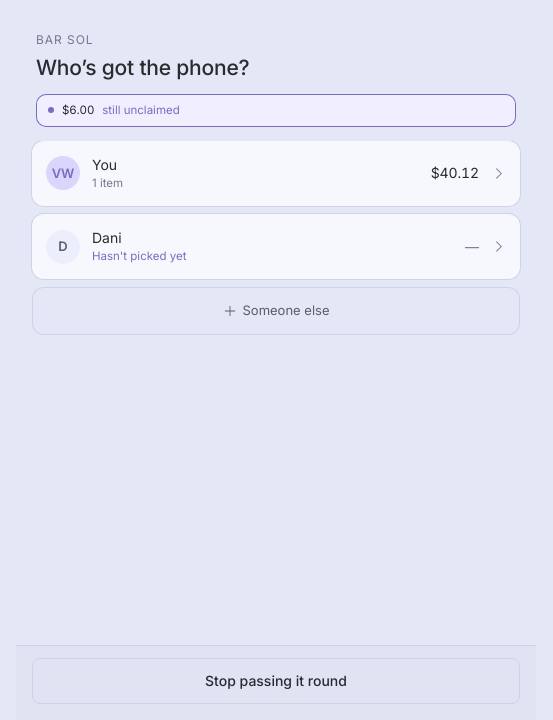
Test: TabPassPage — a turn › hands back to the picker when the turn ends
Step 1. Click the button "D Dani Hasn't picked yet —" → (63,247), box [32,214,520,279]
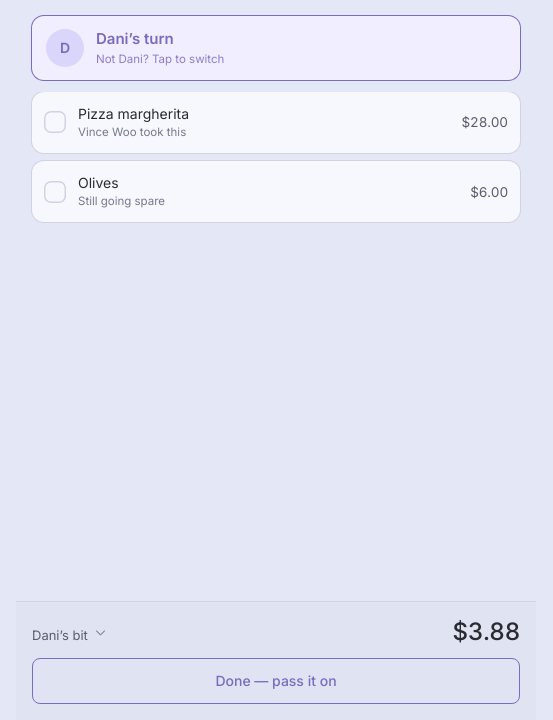
Step 2. Click the button "Done — pass it on" → (276,681), box [32,658,520,704]
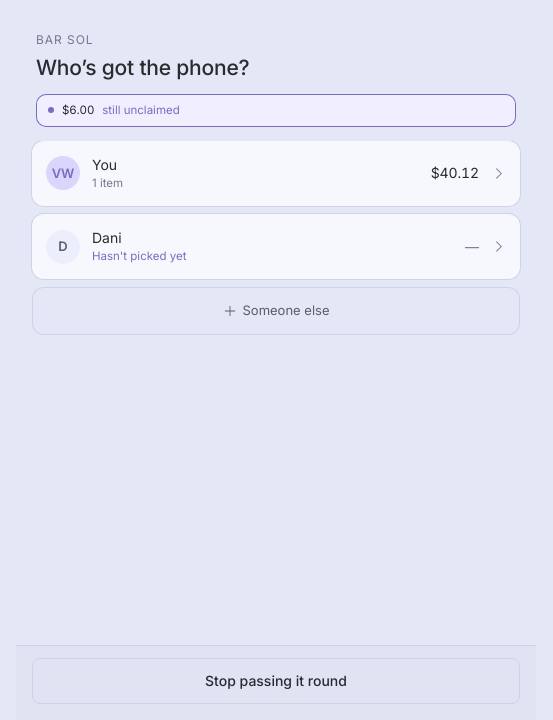
Check: the heading "Who’s got the phone?" is shown, box [36,55,249,80]
